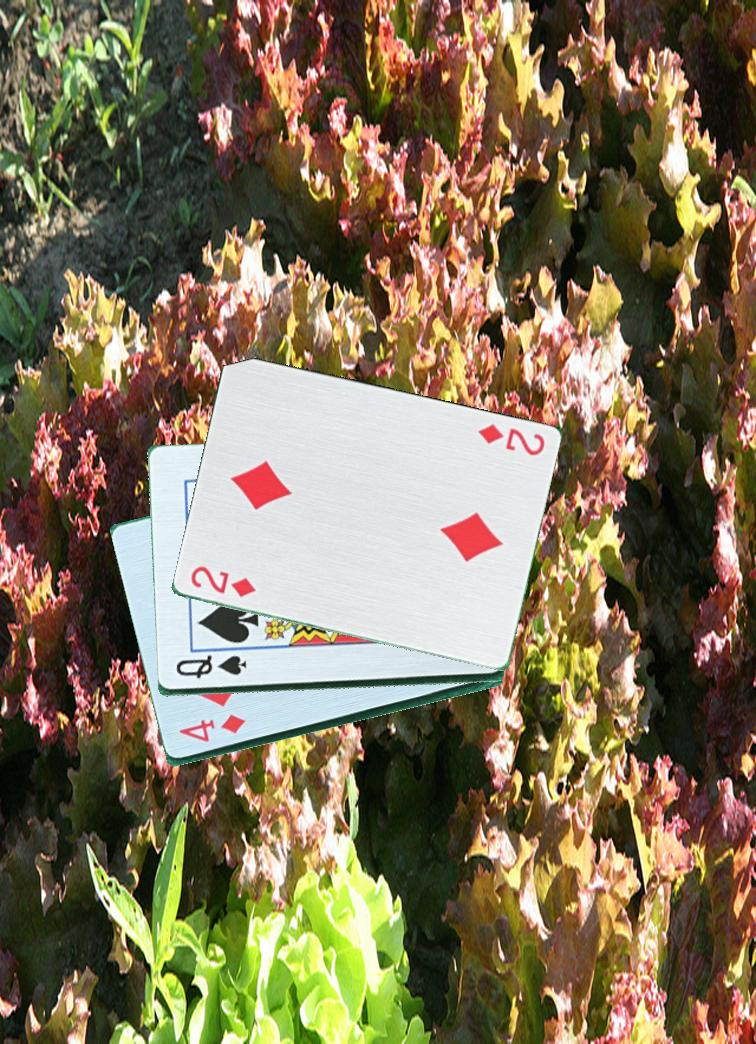2d: (178, 560, 259, 601), (474, 420, 547, 459)
4d: (175, 713, 248, 746)
qs: (172, 655, 249, 682)
